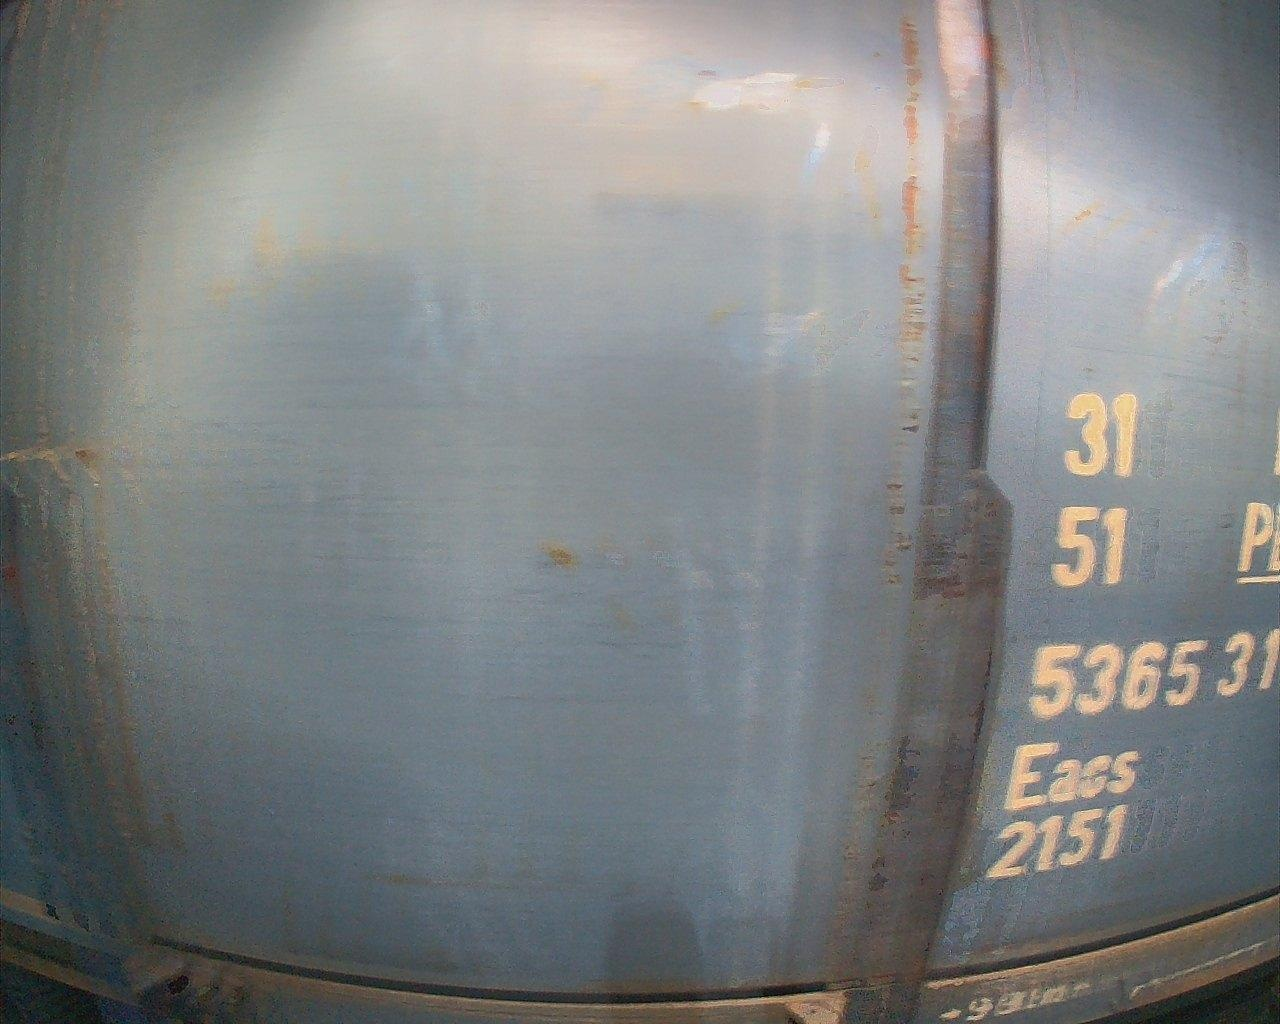UIC: (991, 387, 1280, 890)
